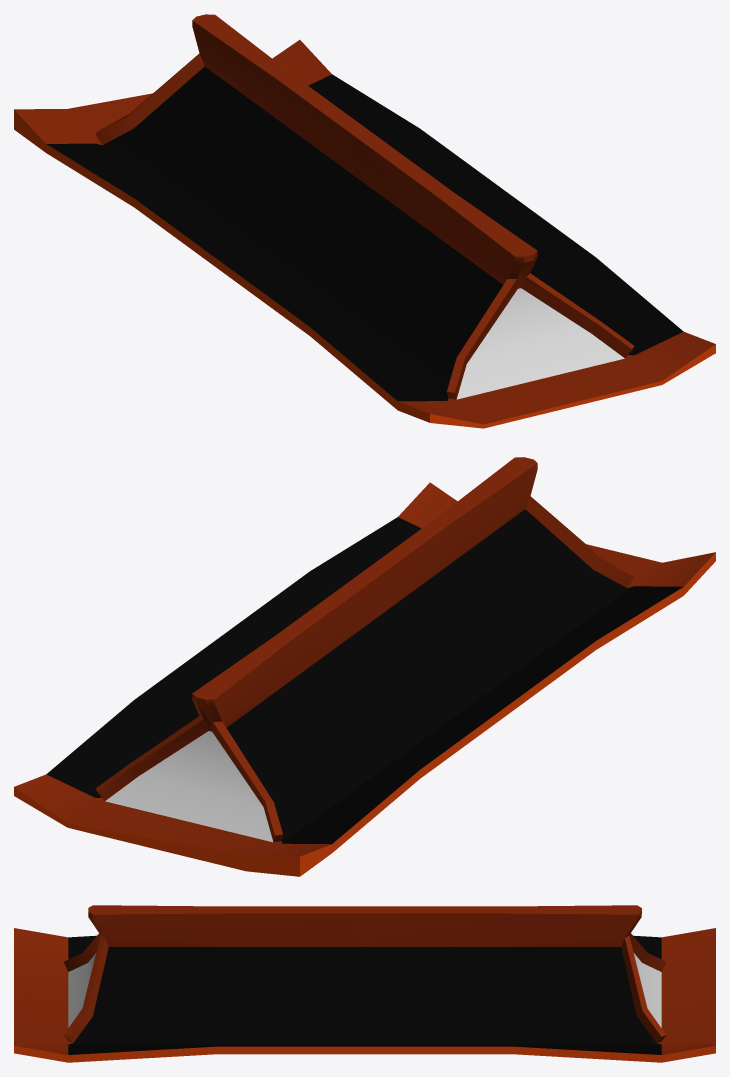
The model's file is peca.fbx.
The picture shows the model from 3 angles, top to bottom: view 1: azimuth 30°, elevation 25°; view 2: azimuth 150°, elevation 25°; view 3: azimuth 270°, elevation 25°; orthographic projection. The views are drawn at different scales.
Parts seen in each view (by area): view 1: pasted__pasted__pCube10; view 2: pasted__pasted__pCube10; view 3: pasted__pasted__pCube10.
Boxes of the visible parts, x1,y1,x2,y2 form: pasted__pasted__pCube10: (14,14,715,428); pasted__pasted__pCube10: (14,457,715,876); pasted__pasted__pCube10: (14,905,715,1062).
Bounding box in the file's own units: 2.22 × 0.883 × 5.6.
